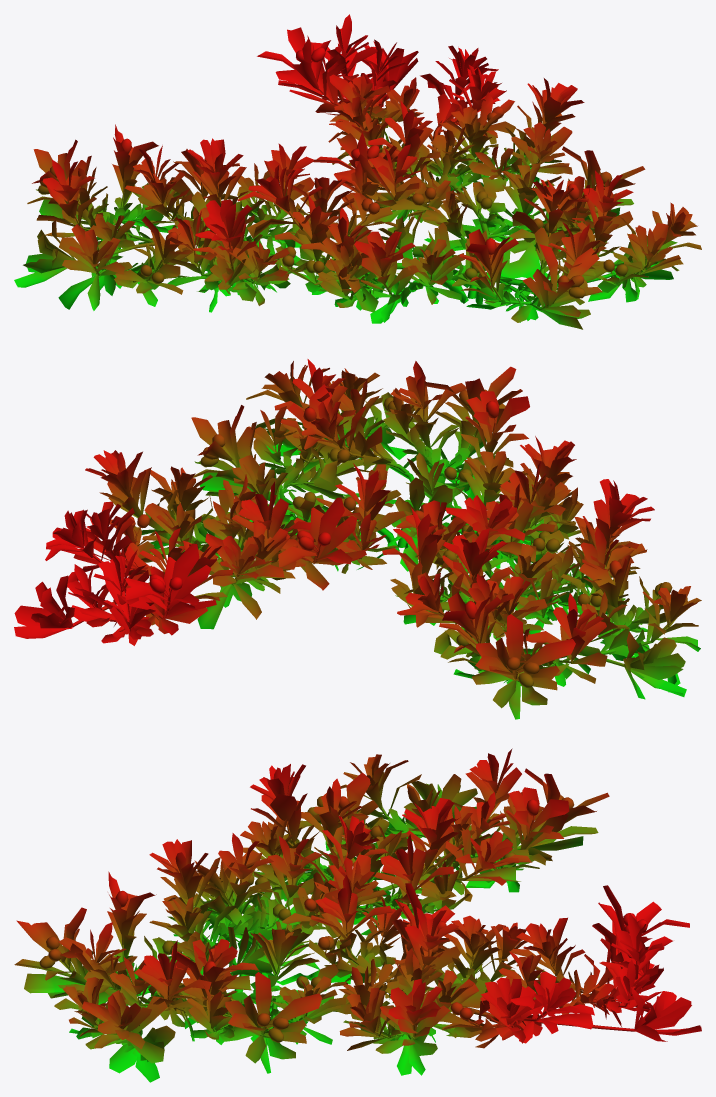
The model's file is Alpine Bearberry_LOD3_Var1_xb0gdazqx.fbx.
The picture shows the model from 3 angles, top to bottom: view 1: azimuth 30°, elevation 25°; view 2: azimuth 150°, elevation 25°; view 3: azimuth 270°, elevation 25°; orthographic projection. The views are drawn at different scales.
Parts seen in each view (by area): view 1: _r8bv_Var1_LOD3; view 2: _r8bv_Var1_LOD3; view 3: _r8bv_Var1_LOD3.
Boxes of the visible parts, <box> form: _r8bv_Var1_LOD3: <box>14,14,701,329</box>; _r8bv_Var1_LOD3: <box>14,359,701,719</box>; _r8bv_Var1_LOD3: <box>14,748,701,1082</box>.
Bounding box in the file's own units: 73 × 17.17 × 74.19.
